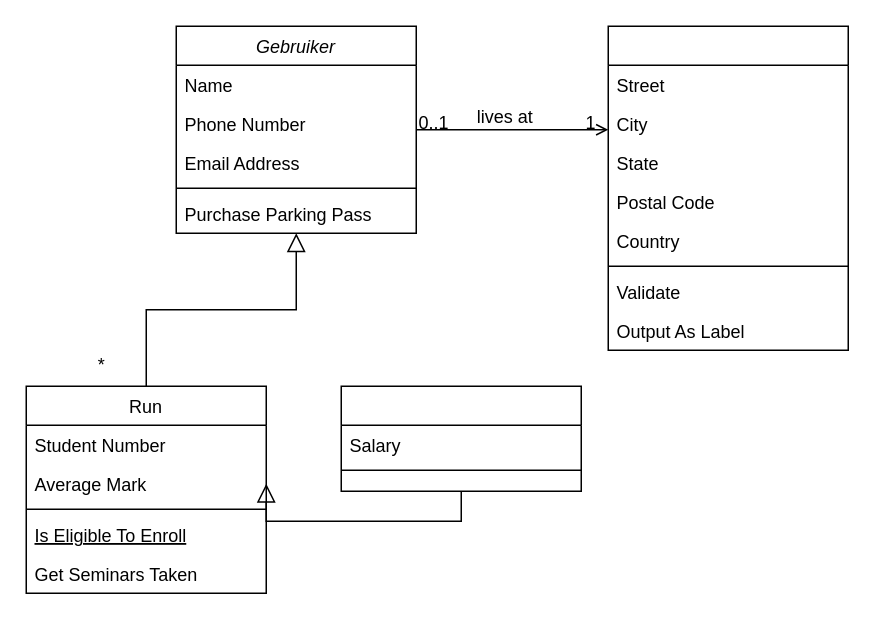
This 875x624 diagram has some shape labels left out. The shapes that lost their labels are listed below. From the top down, each one's box as (x1, y1, x2, y2) in pixels, then its label:
(607, 25, 848, 350): Profiel
(340, 385, 581, 491): Professor
